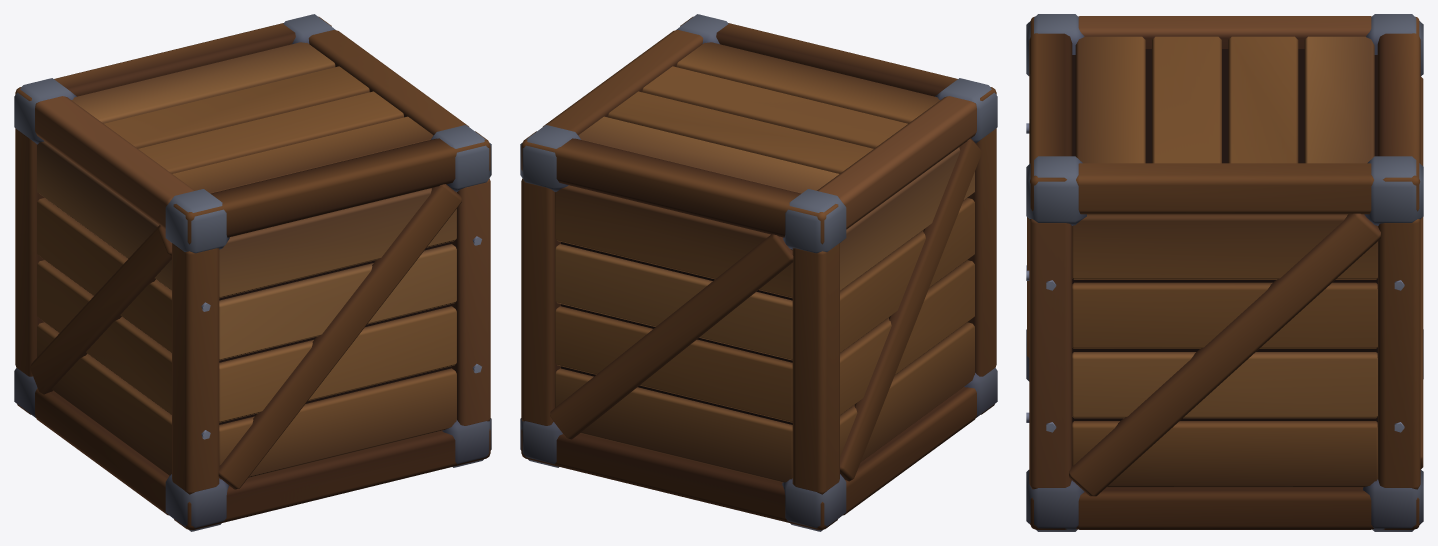
The model's file is caisse_bois.glb.
The picture shows the model from 3 angles, left to right: view 1: azimuth 30°, elevation 25°; view 2: azimuth 150°, elevation 25°; view 3: azimuth 270°, elevation 25°; orthographic projection. The views are drawn at different scales.
Parts seen in each view (by area): view 1: caisse_bois; view 2: caisse_bois; view 3: caisse_bois.
Boxes of the visible parts, <box> form: caisse_bois: <box>14,14,491,531</box>; caisse_bois: <box>520,14,997,531</box>; caisse_bois: <box>1026,14,1423,531</box>.
Bounding box in the file's own units: 1.02 × 1.02 × 1.02.
